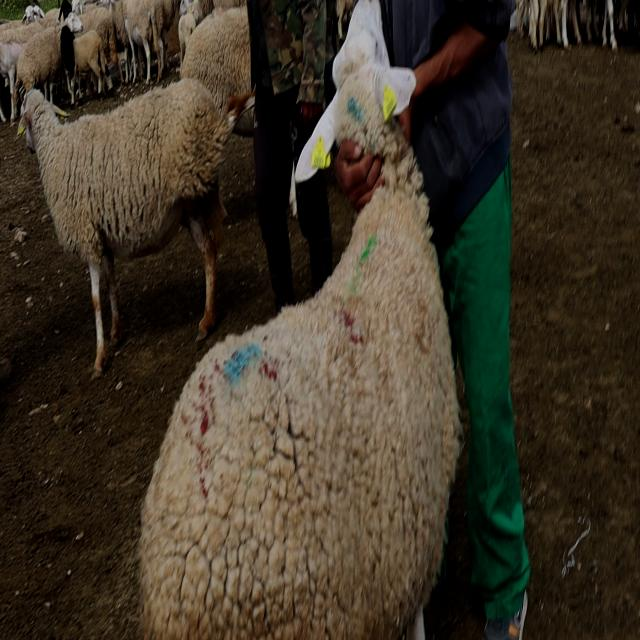Score_5: (138, 0, 463, 639)
